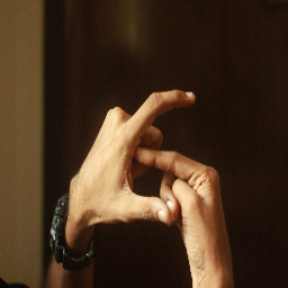E: (112, 82, 213, 224)
